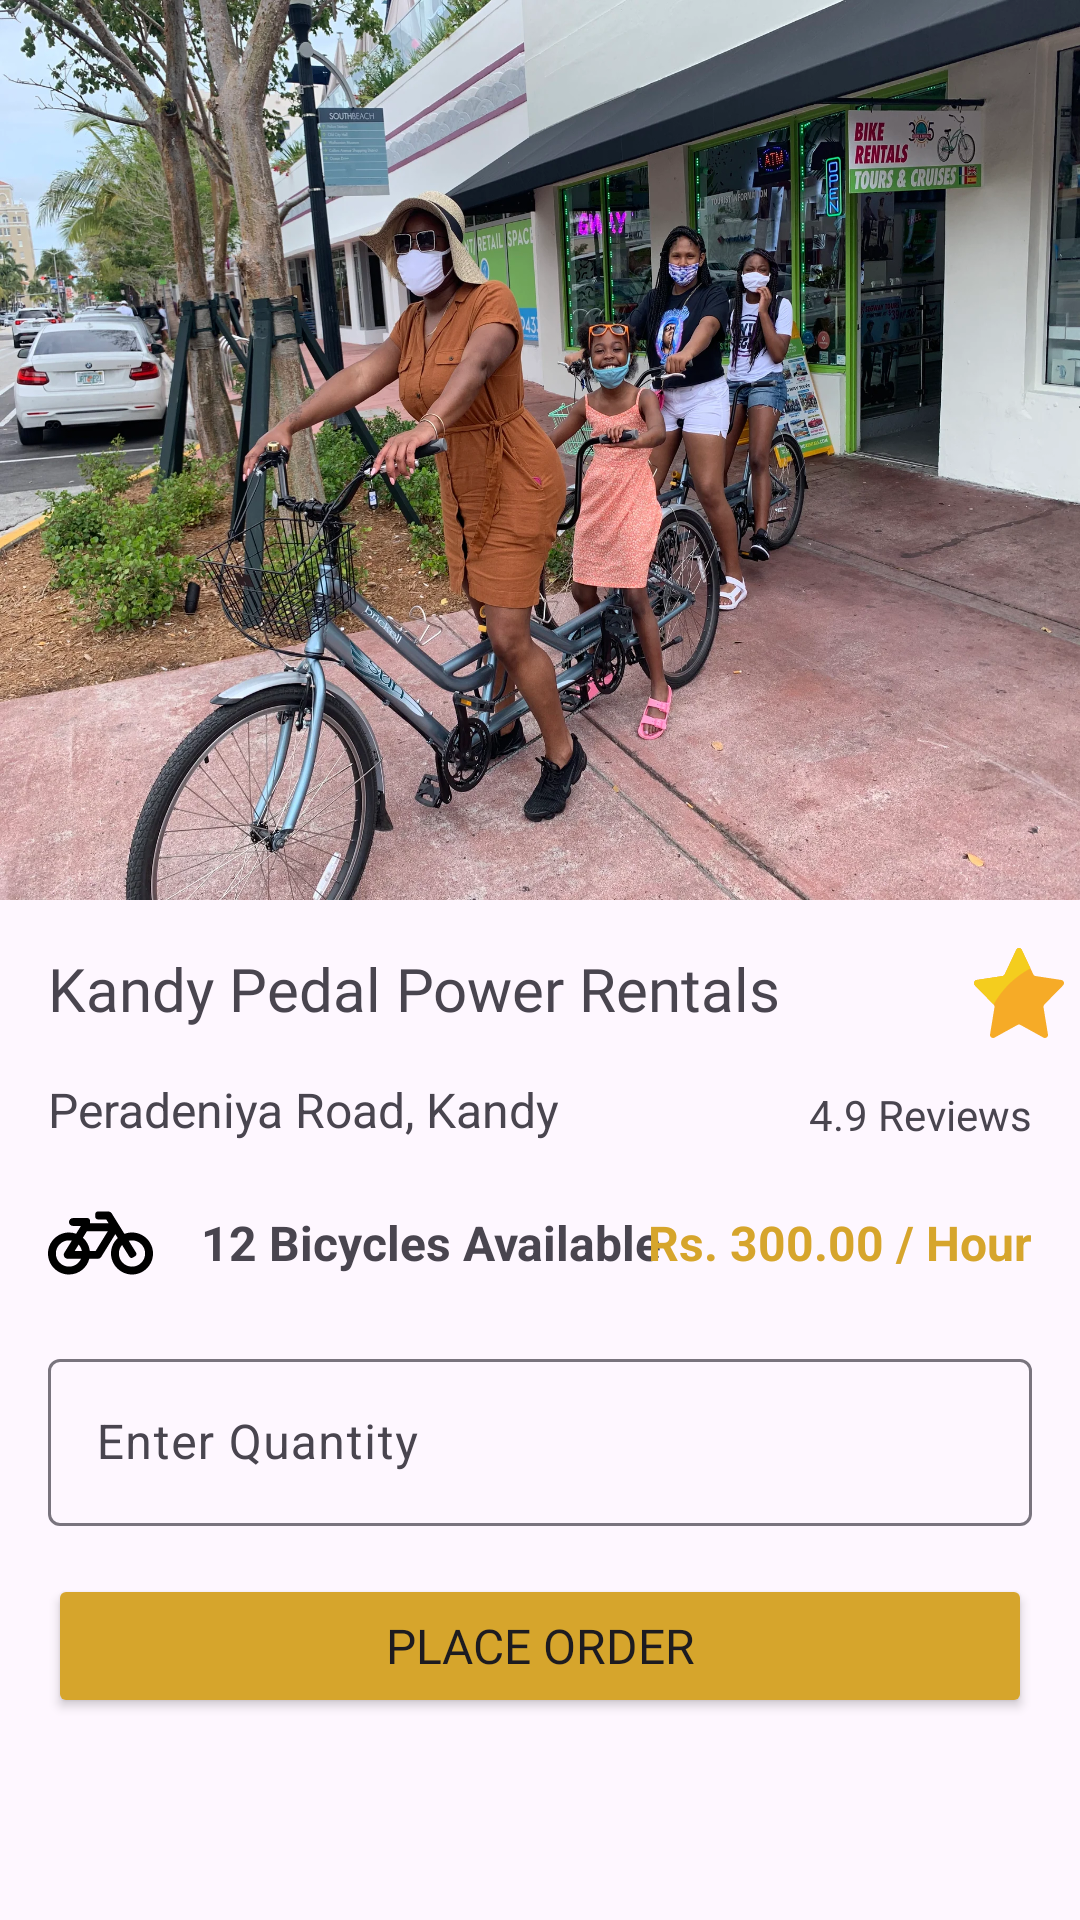

Locate icon controls on the screen. Image size 1080w x 1920h, boxes as (x1, y1, x2, y2).
star: (974, 948, 1064, 1038)
